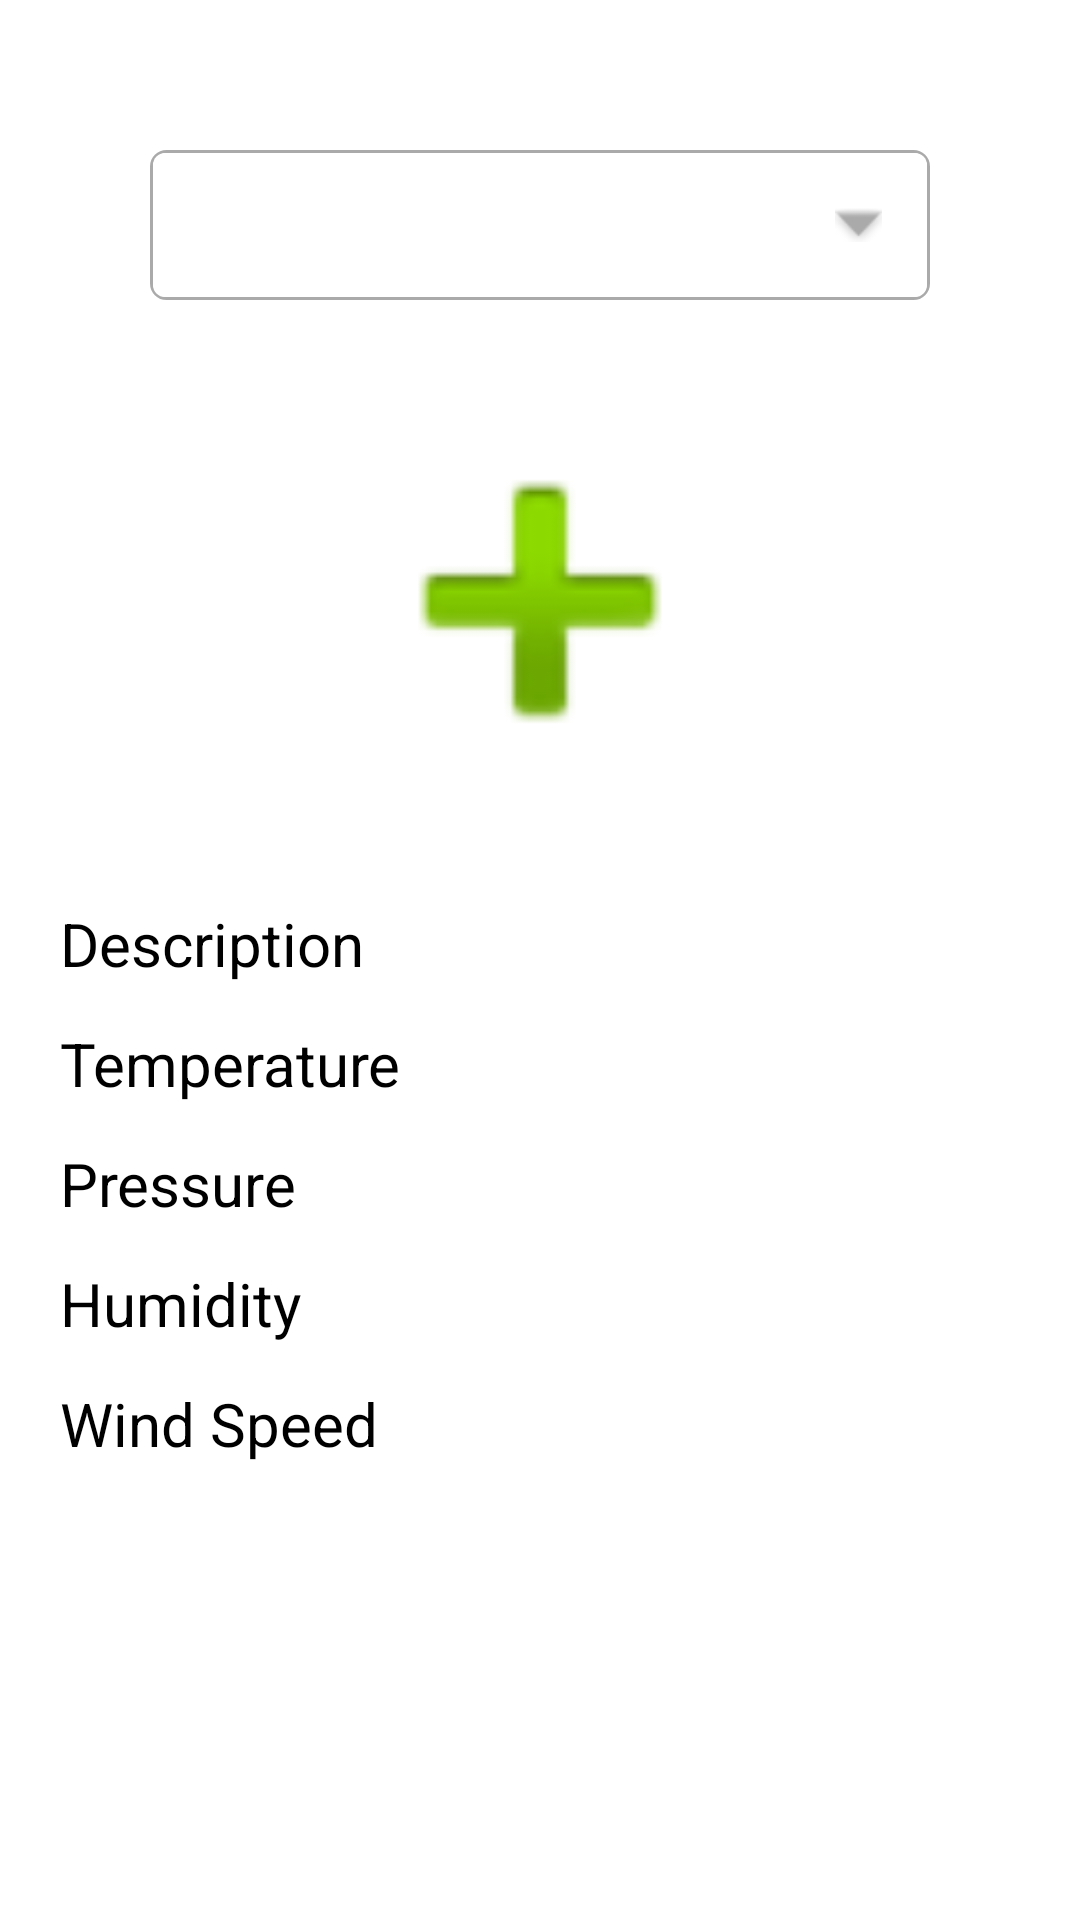

Icons on this 1080px x 1920px Android screen, each with the point to tap as point (x, y):
add: point (540, 601)
